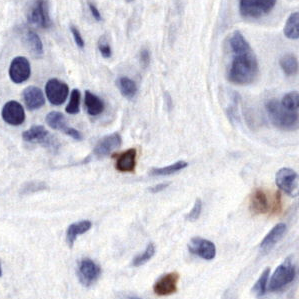Lymphocyte: (114, 147, 140, 173)
